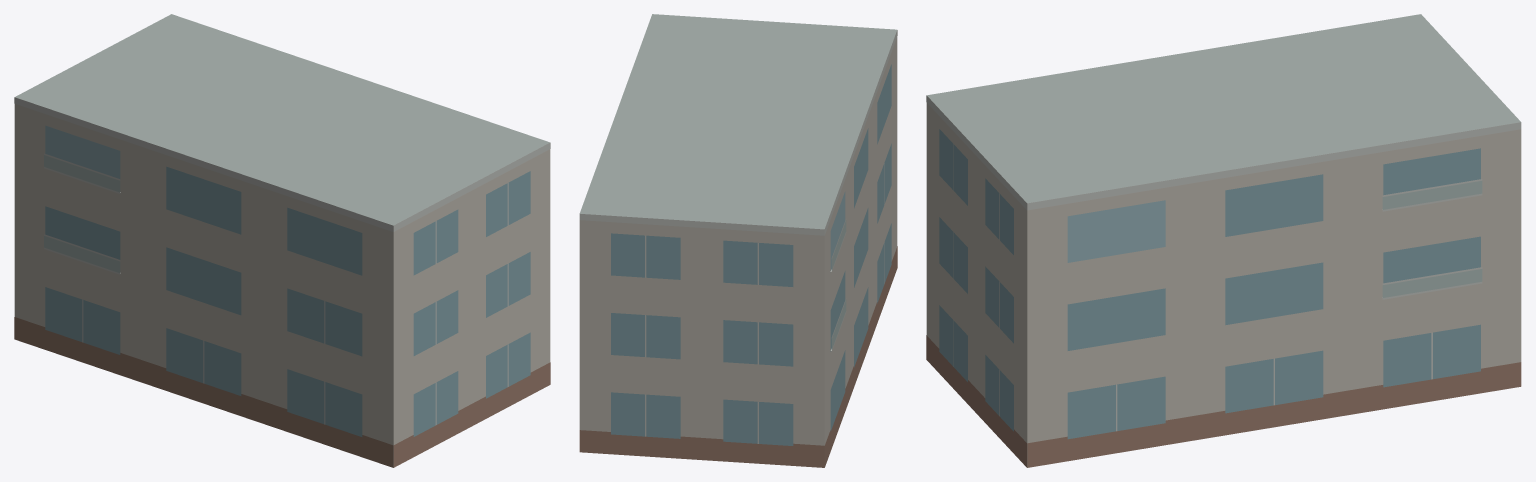
Rendered from survey-upis-32698455.glb.
3 views of the same model, side by side, from view 1: azimuth 30°, elevation 25°; view 2: azimuth 150°, elevation 25°; view 3: azimuth 270°, elevation 25° (orthographic). The views are drawn at different scales.
Parts seen in each view (by area): view 1: survey-upis-32698455.tmp; view 2: survey-upis-32698455.tmp; view 3: survey-upis-32698455.tmp.
Part boxes in pixels (bbox=[...]): survey-upis-32698455.tmp: bbox=[14, 14, 550, 467]; survey-upis-32698455.tmp: bbox=[579, 14, 897, 467]; survey-upis-32698455.tmp: bbox=[926, 14, 1521, 467].
Size of the model in its own units: 14.07 by 9.15 by 18.66.
